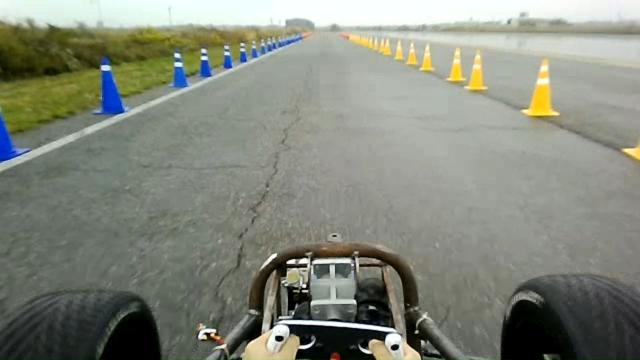blue cone: (92, 55, 128, 115), (169, 48, 189, 88), (198, 47, 212, 77), (222, 43, 233, 68), (238, 41, 248, 63), (250, 40, 258, 58), (260, 39, 266, 55)
yellow cone: (520, 58, 560, 117), (464, 49, 488, 91), (445, 47, 466, 82), (420, 42, 434, 72), (406, 42, 418, 65), (394, 39, 404, 60), (382, 38, 392, 56)
